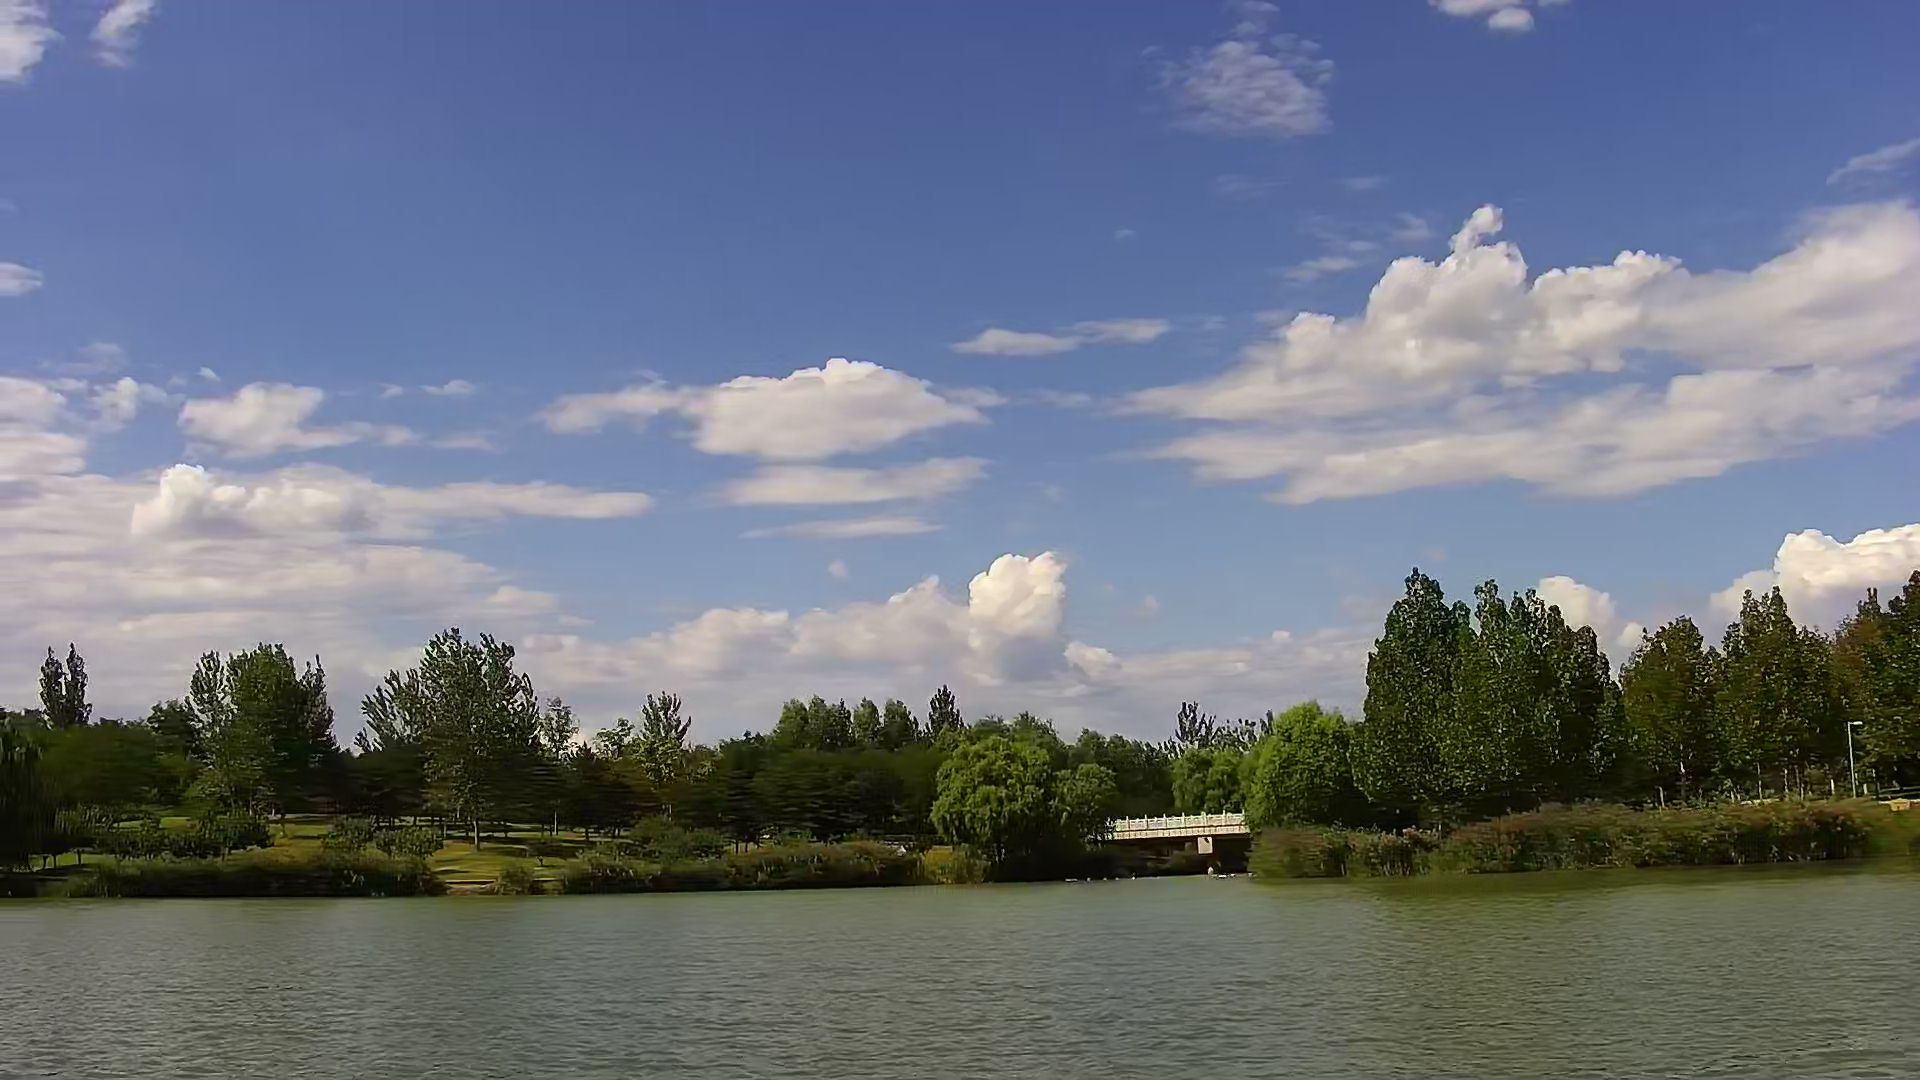bridge: (1109, 811, 1254, 877)
